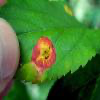Apple rust leaf: (17, 1, 100, 90)
